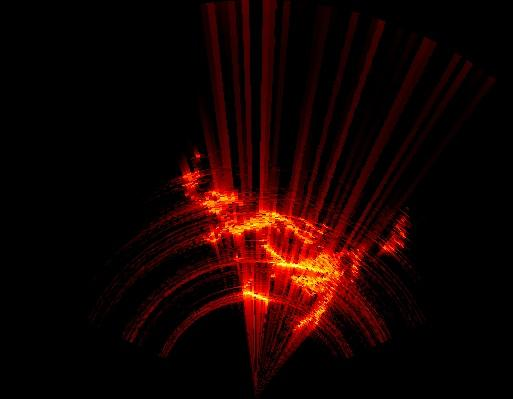shipwreck: (257, 238, 343, 328), (203, 192, 320, 244), (244, 282, 276, 303)
